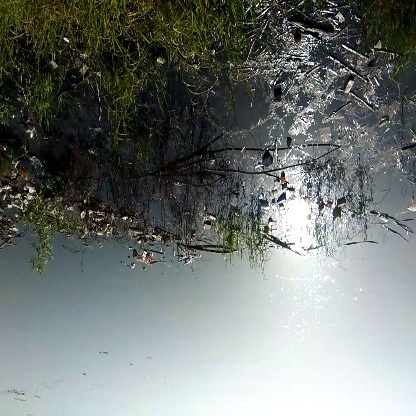branch: (207, 155, 348, 177)
